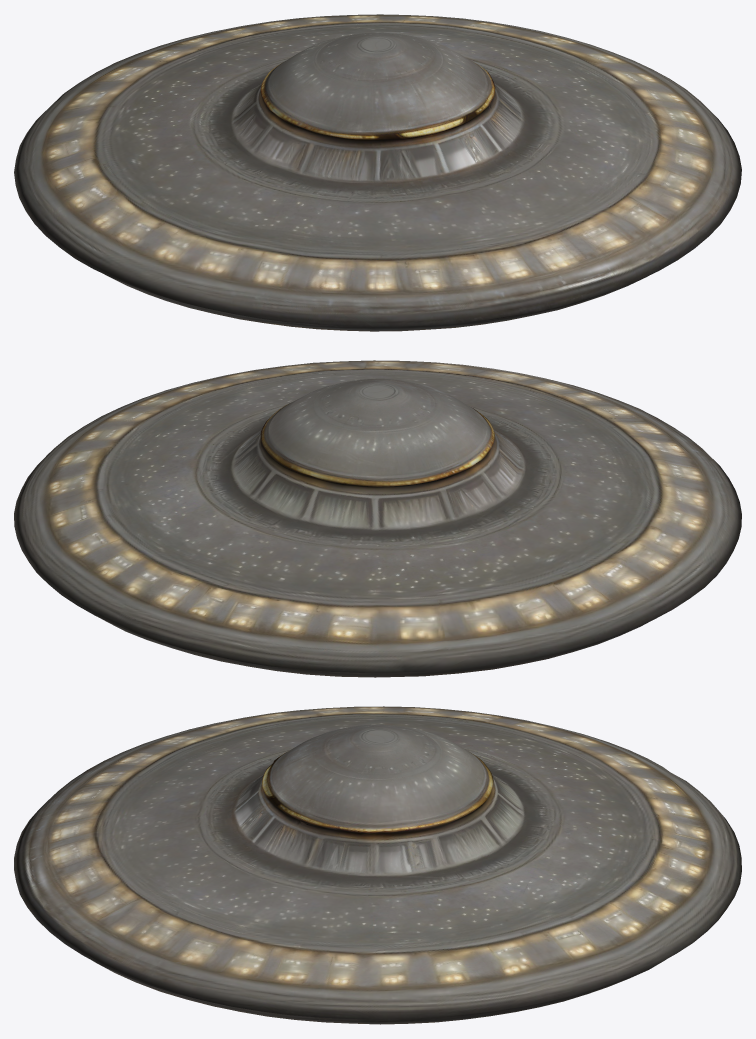
The model's file is alienShip.glb.
The picture shows the model from 3 angles, top to bottom: view 1: azimuth 30°, elevation 25°; view 2: azimuth 150°, elevation 25°; view 3: azimuth 270°, elevation 25°; orthographic projection.
Bounding box in the file's own units: 2 × 0.6254 × 1.99.
1 material, 1 textured.
